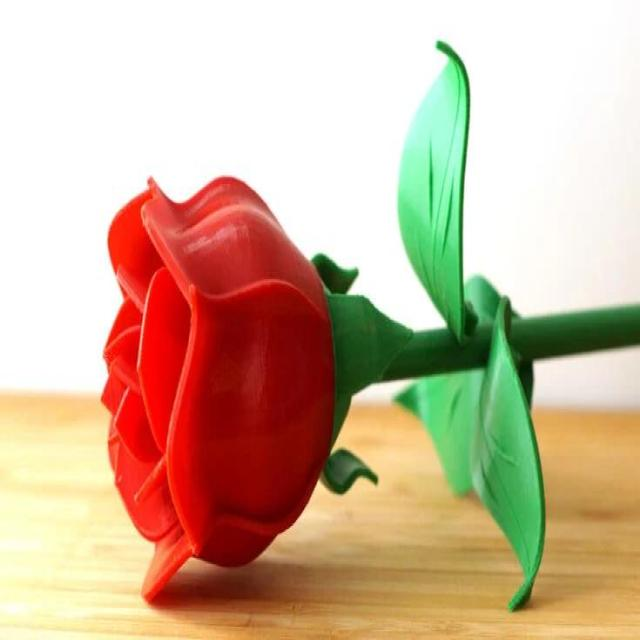Without deffect: (56, 36, 598, 640)
